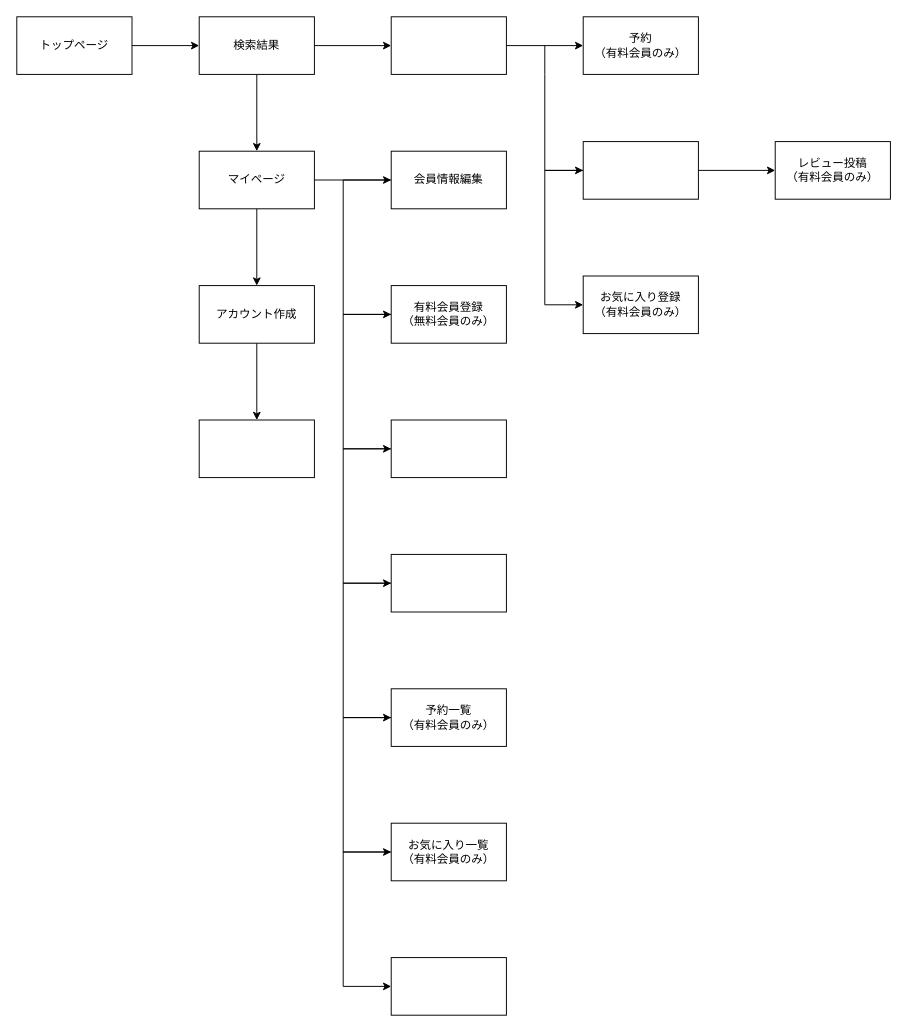
Some shapes in this 907 by 1032 pixel diagram are drawn without their labels. Each missing label, with the centre of its shape:
"クレジットカード 編集 （有料会員のみ）" goes at pixel 448 582.
"レビュー一覧" goes at pixel 640 170.
"ログアウト" goes at pixel 448 986.
"ログイン" goes at pixel 256 448.
"店舗詳細" goes at pixel 448 45.
"有料会員解約 （有料会員のみ）" goes at pixel 448 448.
